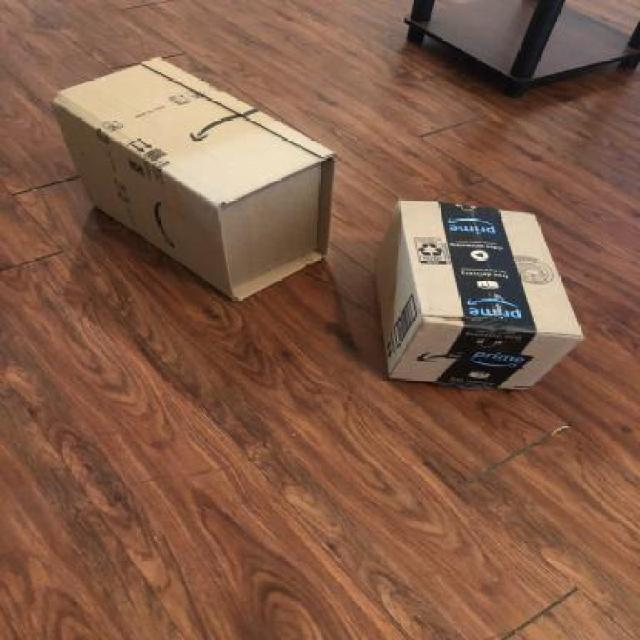cardboxes: (41, 52, 343, 312), (365, 196, 590, 402)
